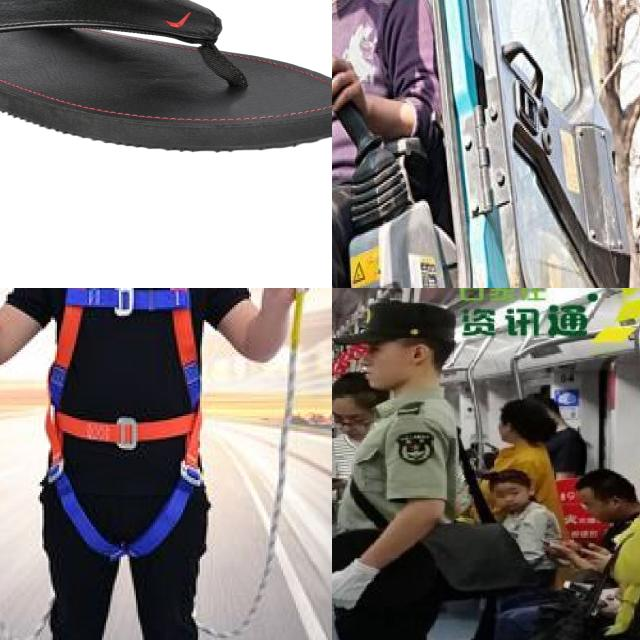Harness: (42, 288, 208, 565)
No_Ear-Protection: (411, 342, 428, 366)
Sandals: (0, 0, 332, 154)
face_nomask: (358, 334, 416, 385), (494, 483, 530, 511)
hand_glove: (332, 564, 377, 612)
hand_noglove: (332, 53, 365, 114), (542, 538, 578, 564), (581, 545, 608, 572), (332, 469, 347, 493)
head_nohelmet: (366, 300, 466, 351), (332, 363, 379, 409), (500, 394, 543, 423), (570, 471, 611, 497), (485, 470, 530, 490)
person: (332, 306, 488, 640), (332, 0, 436, 288)
